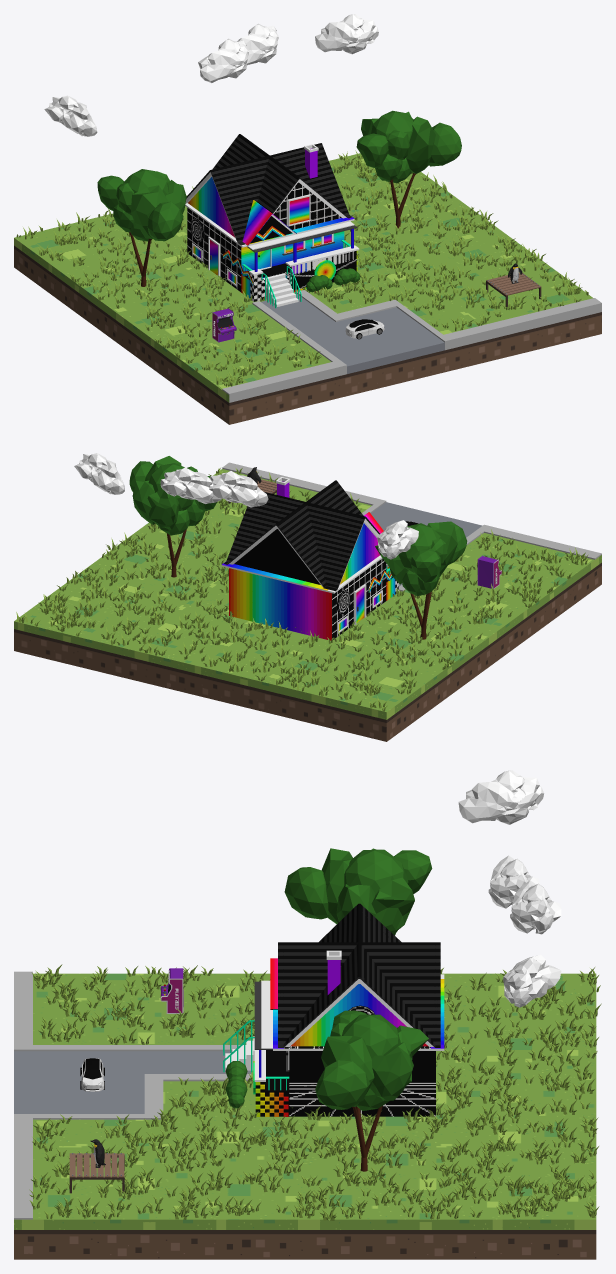
3 views of the same model, one above another, from view 1: azimuth 30°, elevation 25°; view 2: azimuth 150°, elevation 25°; view 3: azimuth 270°, elevation 25° (orthographic). The views are drawn at different scales.
Visible parts, largest first — view 1: Cube.006, Cube.1320, Circle.012_Grass_0.192, Cube.007, tree, tree.001, Cube.009, OBJRANDOM_ARCADE, VEHICLES_TESLA; view 2: Cube.006, Cube.1320, Circle.012_Grass_0.192, Cube.007, tree.001, tree, OBJRANDOM_ARCADE; view 3: Cube.006, Circle.012_Grass_0.192, Cube.1320, tree, Cube.007, tree.001, Cube.009, OBJRANDOM_ARCADE, VEHICLES_TESLA.
Part boxes in pixels (box(x1,y1,x2,y2)): Cube.006: box(14, 153, 601, 424); Cube.1320: box(185, 134, 359, 308); Circle.012_Grass_0.192: box(16, 150, 588, 386); Cube.007: box(44, 14, 378, 136); tree: box(356, 110, 461, 228); tree.001: box(97, 169, 186, 286); Cube.009: box(486, 272, 541, 306); OBJRANDOM_ARCADE: box(212, 308, 236, 342); VEHICLES_TESLA: box(345, 319, 384, 339); Cube.006: box(14, 462, 601, 741); Cube.1320: box(221, 477, 398, 640); Circle.012_Grass_0.192: box(16, 468, 588, 711); Cube.007: box(74, 453, 418, 559); tree.001: box(375, 521, 467, 639); tree: box(129, 456, 216, 577); OBJRANDOM_ARCADE: box(477, 555, 501, 588); Cube.006: box(14, 971, 596, 1259); Circle.012_Grass_0.192: box(29, 964, 601, 1220); Cube.1320: box(223, 903, 444, 1116); tree: box(315, 1010, 428, 1171); Cube.007: box(458, 770, 561, 1007); tree.001: box(284, 848, 432, 935); Cube.009: box(69, 1153, 124, 1193); OBJRANDOM_ARCADE: box(160, 968, 183, 1013); VEHICLES_TESLA: box(80, 1058, 104, 1091).
Size of the model in its own units: 4071 by 2126 by 4040.
Materials: 35 (6 with a texture image).
